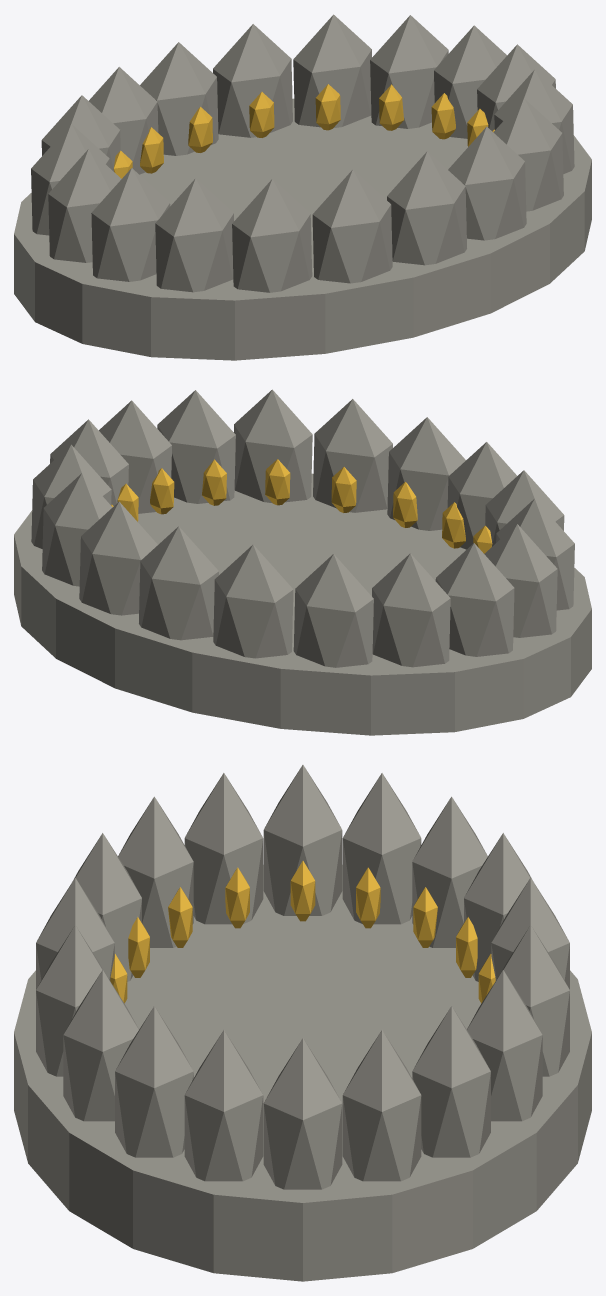
The model's file is board_ninho.glb.
3 views of the same model, one above another, from view 1: azimuth 30°, elevation 25°; view 2: azimuth 150°, elevation 25°; view 3: azimuth 270°, elevation 25° (orthographic). The views are drawn at different scales.
Parts seen in each view (by area): view 1: board_ninho; view 2: board_ninho; view 3: board_ninho.
Boxes of the visible parts, x1,y1,x2,y2 form: board_ninho: (14,14,591,360); board_ninho: (14,389,591,735); board_ninho: (14,765,591,1281).
Size of the model in its own units: 14 by 4 by 10.
